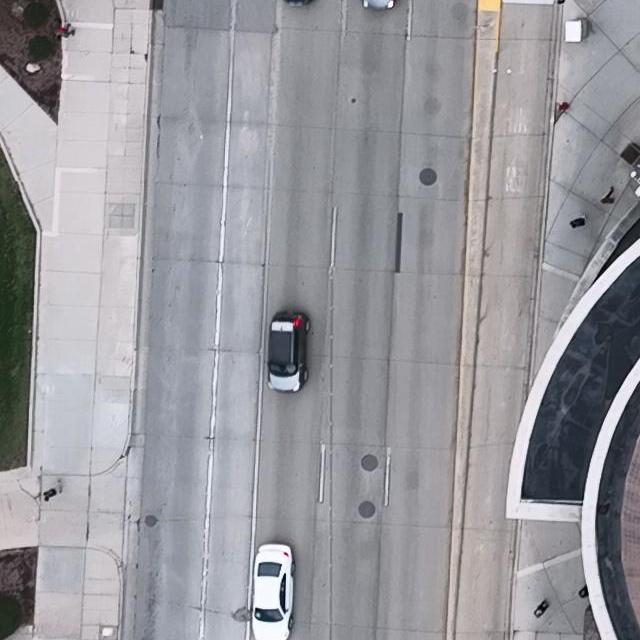car: (251, 542, 295, 640), (266, 312, 311, 393)
